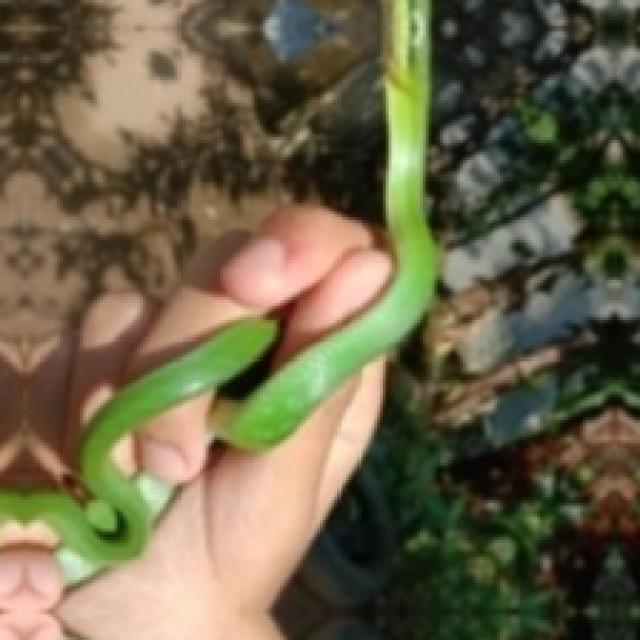red-tailed green ratsnake: (216, 0, 438, 451), (0, 320, 278, 568)
